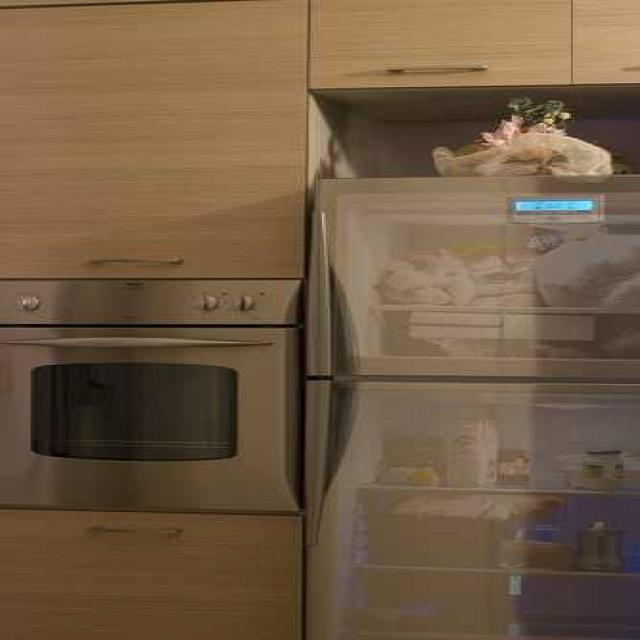refrigerator: (308, 176, 640, 640)
